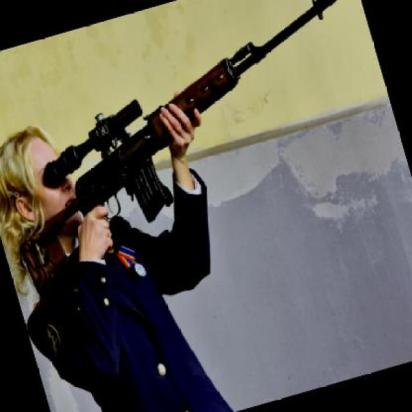Gun: (0, 0, 407, 306)
